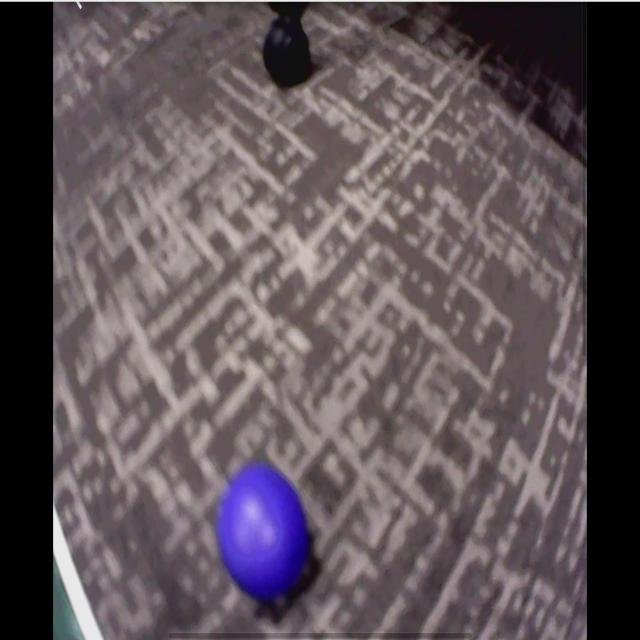ball: (220, 459, 312, 608)
